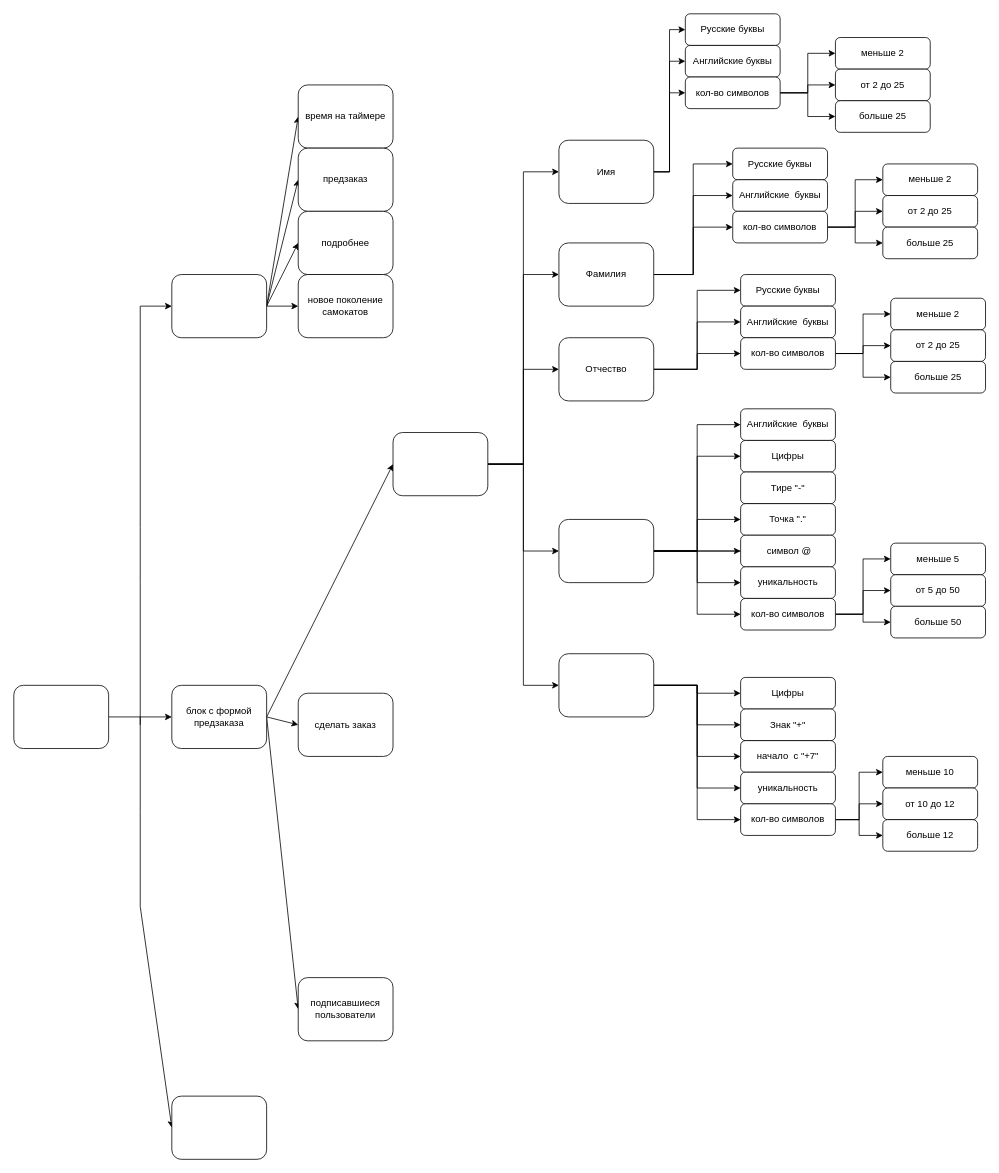
The diagram is 999 pixels wide and 1173 high, and some of its shapes have lost their labels. Each missing label, with the centre of its shape:
"Email" belongs at [606,551].
"верхний блок" belongs at [219,306].
"нижний блок" belongs at [219,1127].
"поля ввода" belongs at [440,464].
"телефон" belongs at [606,685].
"Яндекс самокат Промо страница" belongs at [61,717].
